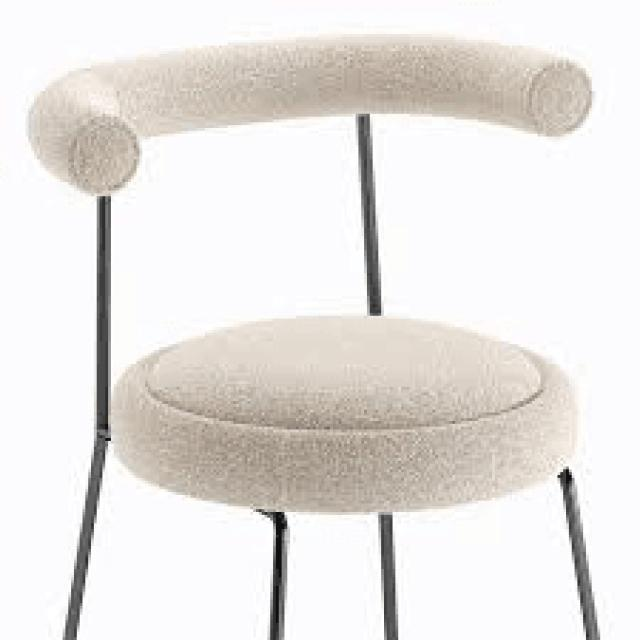chair: (26, 24, 607, 640), (28, 0, 638, 529)
